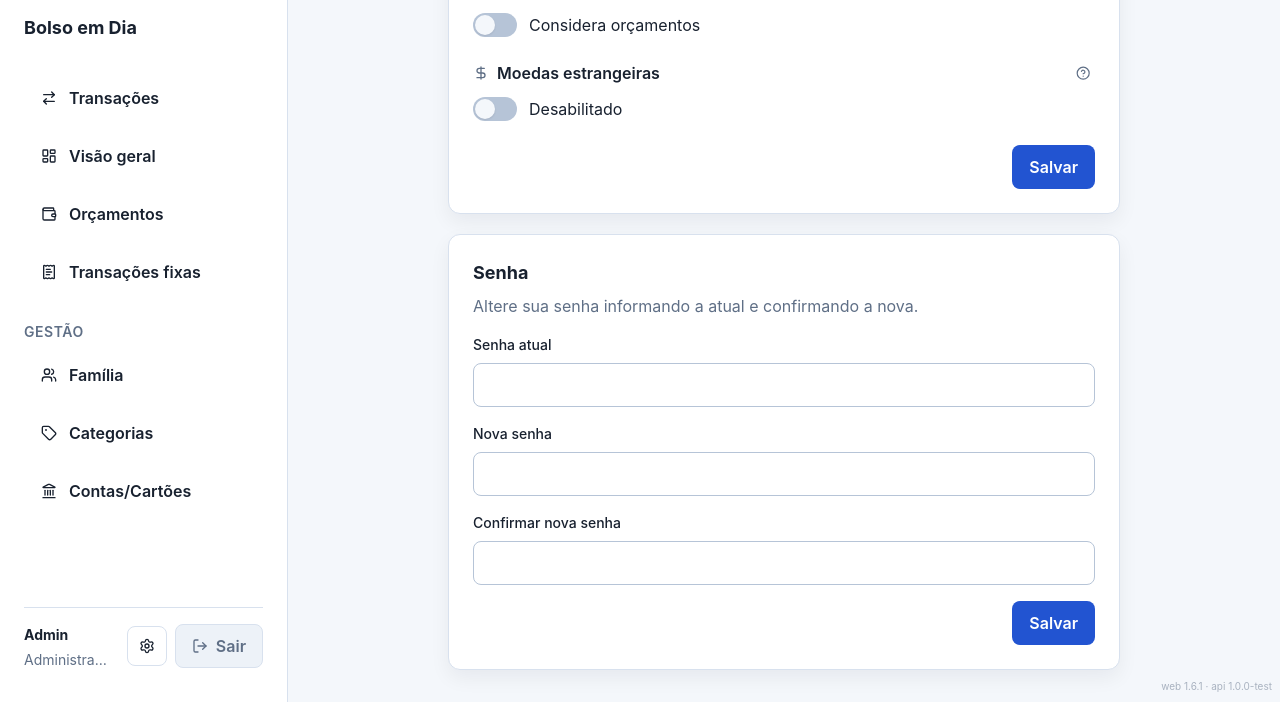
Scenario: UserSettingsPage › changes the current user password from settings
The image size is (1280, 702).
(page scrolled)
Type "admin12345678" into the password field labelled "Senha atual" at x=784, y=385, box [473,363,1095,407]
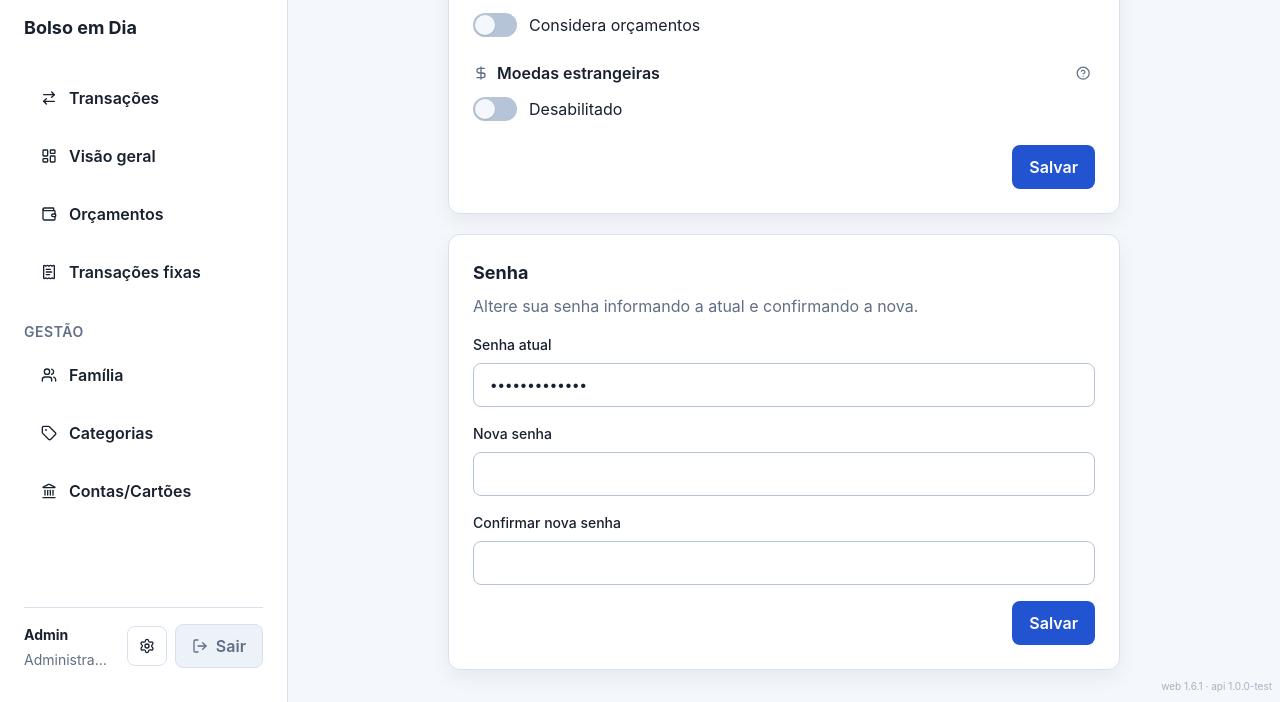
Type "novaSenha123" into the password field labelled "Nova senha" at x=784, y=474, box [473,452,1095,496]
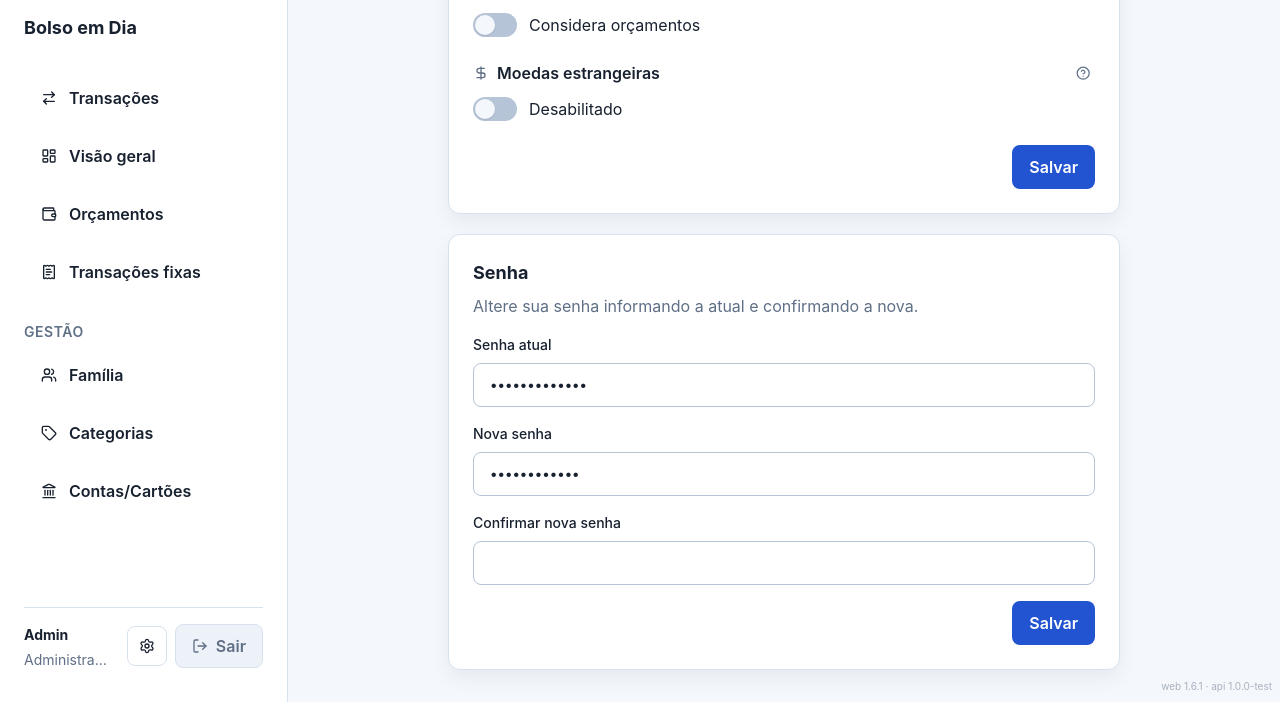
Type "novaSenha123" into the password field labelled "Confirmar nova senha" at x=784, y=563, box [473,541,1095,585]
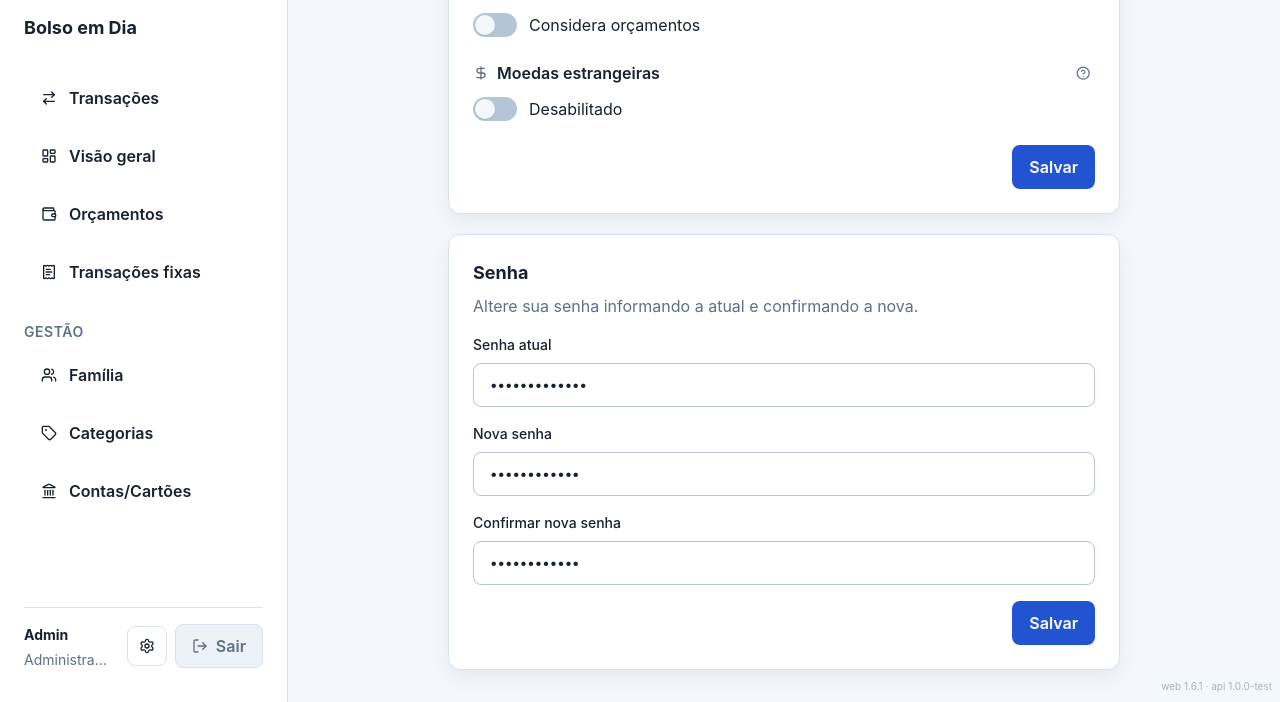
Click the 2nd button "Salvar" at x=1054, y=623, box [1012,601,1095,645]
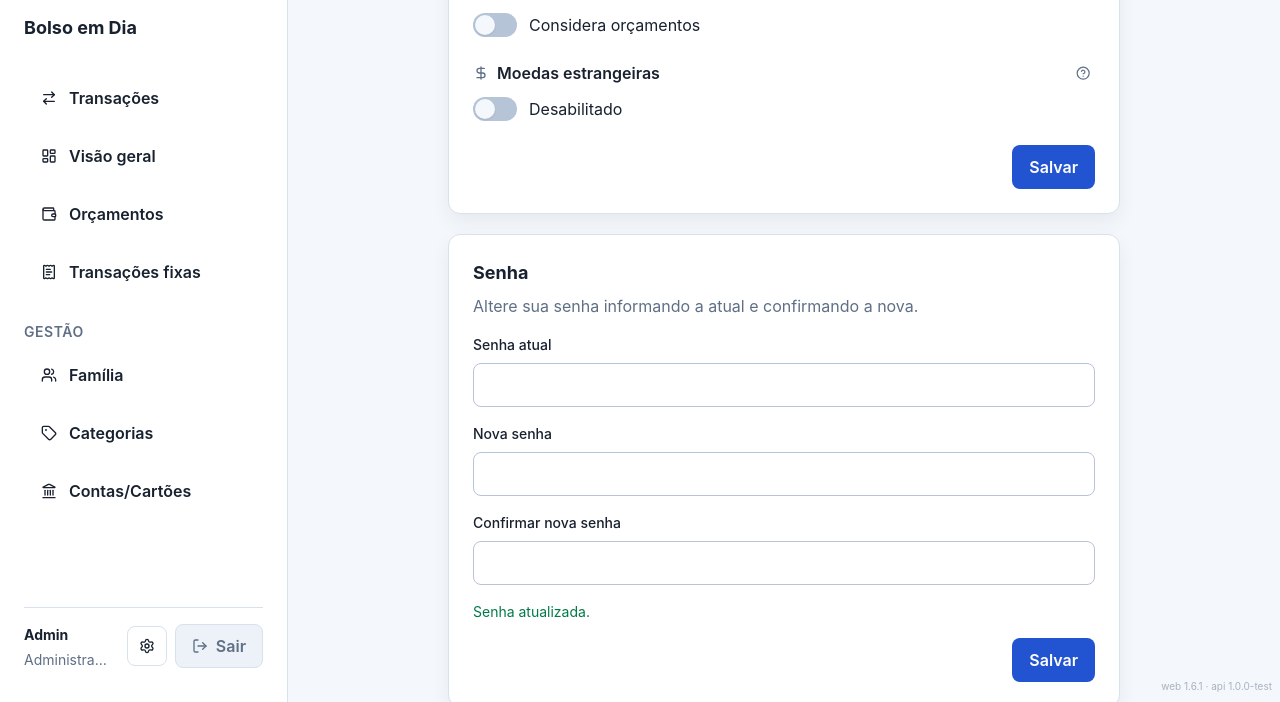
Check: the text "Senha atualizada." is shown, box [473,603,590,620]
